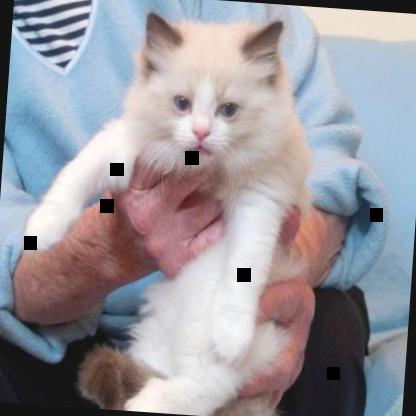cat: (13, 2, 322, 415)
